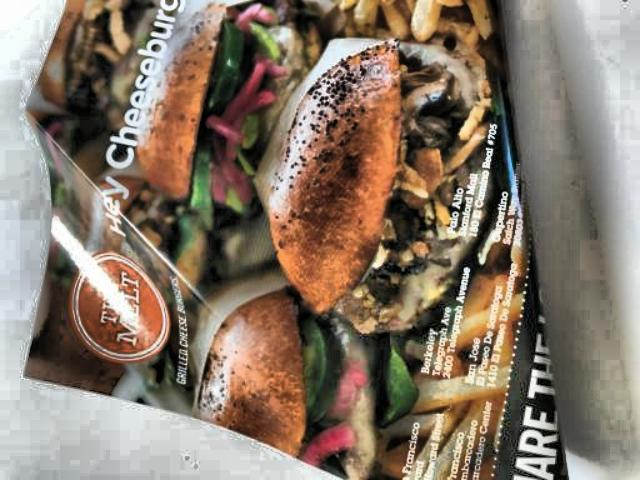Paper: (3, 0, 585, 480)
